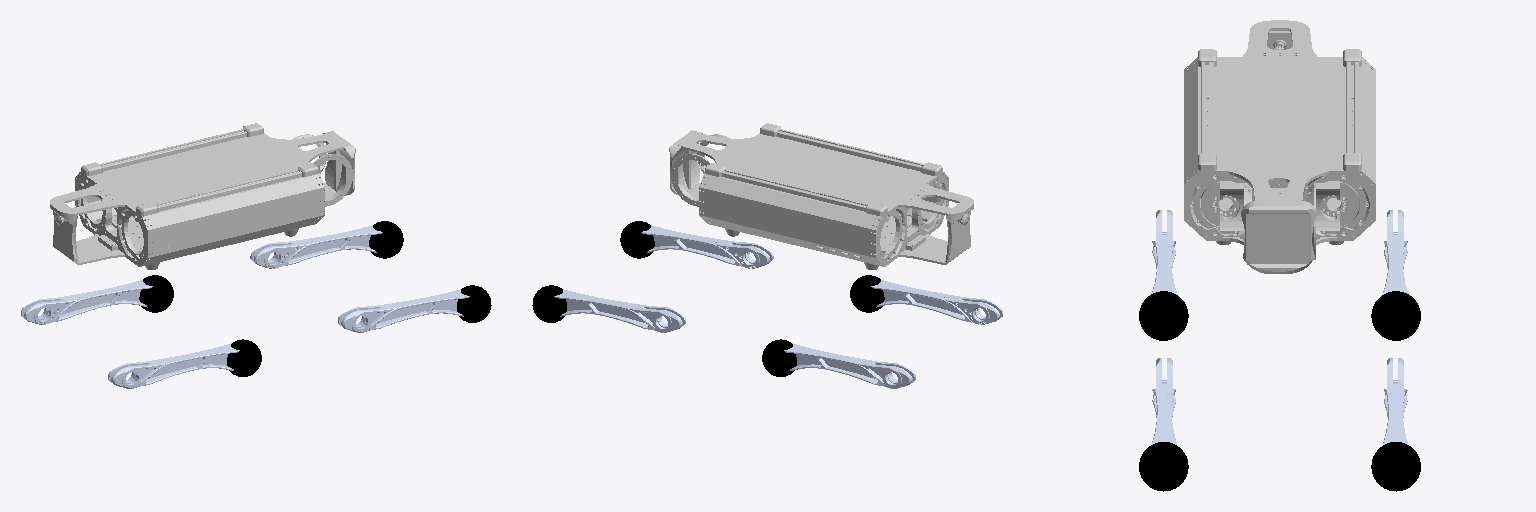
URDF robot description (sizu):
<?xml version="1.0" encoding="utf-8"?>
<!-- This URDF was automatically created by SolidWorks to URDF Exporter! Originally created by Stephen Brawner (brawner@gmail.com) 
     Commit Version: 1.6.0-4-g7f85cfe  Build Version: 1.6.7995.38578
     For more information, please see http://wiki.ros.org/sw_urdf_exporter -->
<robot
  name="sizu">
  <material name="black">
    <color rgba="0.0 0.0 0.0 1.0"/>
  </material>
  
  <link
    name="base_link">
    <inertial>
      <origin
        xyz="-0.0012497 -0.00025077 0.063201"
        rpy="0 0 0" />
      <mass
        value="8.4217" />
      <inertia
        ixx="0.09190"
        ixy="0.00015"
        ixz="0.00129"
        iyy="0.31958"
        iyz="-0.00004"
        izz="0.37063" />
    </inertial>
    <visual>
      <origin
        xyz="0 0 0"
        rpy="0 0 0" />
      <geometry>
        <mesh
          filename="../meshes/base_link.STL" />
      </geometry>
      <material
        name="">
        <color
          rgba="0.84706 0.84706 0.84706 1" />
      </material>
    </visual>
    <collision>
      <origin
        xyz="0 0 0"
        rpy="0 0 0" />
      <geometry>
        <mesh
          filename="../meshes/base_link.STL" />
      </geometry>
    </collision>
  </link>
  <link
    name="left1_1_link">
    <inertial>
      <origin
        xyz="0.050832 -0.011343 -0.0001722"
        rpy="0 0 0" />
      <mass
        value="1.83277" />
      <inertia
        ixx="0.00247"
        ixy="0.00005"
        ixz="0.00000"
        iyy="0.00456"
        iyz="0.00000"
        izz="0.00331" />
    </inertial>
    <visual>
      <origin
        xyz="0 0 0"
        rpy="0 0 0" />
      <geometry>
        <mesh
          filename="../meshes/left1_1_link.STL" />
      </geometry>
      <material
        name="">
        <color
          rgba="0.86667 0.9098 1 1" />
      </material>
    </visual>
    <collision>
      <origin
        xyz="0 0 0"
        rpy="0 0 0" />
      <geometry>
        <mesh
          filename="../meshes/left1_1_link.STL" />
      </geometry>
    </collision>
  </link>
  <joint
    name="left1_1_joint"
    type="revolute">
    <origin
      xyz="0.18256 0.087 0.062"
      rpy="0 0 0" />
    <parent
      link="base_link" />
    <child
      link="left1_1_link" />
    <axis
      xyz="1 0 0" />
    <limit
      lower="-0.873"
      upper="0.873"
      effort="40"
      velocity="25" />
  </joint>
  <link
    name="left1_2_link">
    <inertial>
      <origin
        xyz="-0.011397 0.071514 -0.085657"
        rpy="0 0 0" />
      <mass
        value="2.57652" />
      <inertia
        ixx="0.02289"
        ixy="0.00043"
        ixz="-0.00182"
        iyy="0.02373"
        iyz="0.00306"
        izz="0.00451" />
    </inertial>
    <visual>
      <origin
        xyz="0 0 0"
        rpy="0 0 0" />
      <geometry>
        <mesh
          filename="../meshes/left1_2_link.STL" />
      </geometry>
      <material
        name="">
        <color
          rgba="0.7451 0.73725 0.72941 1" />
      </material>
    </visual>
    <collision>
      <origin
        xyz="0 0 0"
        rpy="0 0 0" />
      <geometry>
        <mesh
          filename="../meshes/left1_2_link.STL" />
      </geometry>
    </collision>
  </link>
  <joint
    name="left1_2_joint"
    type="revolute">
    <origin
      xyz="0.0785000000000005 0.0105000000000026 0"
      rpy="0 0 0" />
    <parent
      link="left1_1_link" />
    <child
      link="left1_2_link" />
    <axis
      xyz="0 1 0" />
    <limit
      lower="-0.516"
      upper="2.478"
      effort="40"
      velocity="25" />
  </joint>
  <link
    name="left1_3_link">
    <inertial>
      <origin
        xyz="0.13302 -0.021113 0.0026327"
        rpy="0 0 0" />
      <mass
        value="0.45786" />
      <inertia
        ixx="0.00021"
        ixy="0.0"
        ixz="0.00056"
        iyy="0.00629"
        iyz="0.00000"
        izz="0.00615" />
    </inertial>
    <visual>
      <origin
        xyz="0 0 0"
        rpy="0 0 0" />
      <geometry>
        <mesh
          filename="../meshes/left1_3_link.STL" />
      </geometry>
      <material
        name="">
        <color
          rgba="0.86667 0.9098 1 1" />
      </material>
    </visual>
    <collision>
      <origin
        xyz="0 0 0"
        rpy="0 0 0" />
      <geometry>
        <mesh
          filename="../meshes/left1_3_link.STL" />
      </geometry>
    </collision>
  </link>
  <joint
    name="left1_3_joint"
    type="revolute">
    <origin
      xyz="0 0.109 -0.275"
      rpy="0 0.097237 0" />
    <parent
      link="left1_2_link" />
    <child
      link="left1_3_link" />
    <axis
      xyz="0 1 0" />
    <limit
      lower="-1.373"
      upper="1.046"
      effort="40"
      velocity="25" />
  </joint>
  <link
    name="right1_1_link">
    <inertial>
      <origin
        xyz="0.050823 0.011343 -0.00016782"
        rpy="0 0 0" />
      <mass
        value="1.83278" />
      <inertia
        ixx="0.00247"
        ixy="-0.00005"
        ixz="0.00000"
        iyy="0.00456"
        iyz="0.00000"
        izz="0.00331" />
    </inertial>
    <visual>
      <origin
        xyz="0 0 0"
        rpy="0 0 0" />
      <geometry>
        <mesh
          filename="../meshes/right1_1_link.STL" />
      </geometry>
      <material
        name="">
        <color
          rgba="0.86667 0.9098 1 1" />
      </material>
    </visual>
    <collision>
      <origin
        xyz="0 0 0"
        rpy="0 0 0" />
      <geometry>
        <mesh
          filename="../meshes/right1_1_link.STL" />
      </geometry>
    </collision>
  </link>
  <joint
    name="right1_1_joint"
    type="revolute">
    <origin
      xyz="0.18256 -0.087 0.062"
      rpy="0 0 0" />
    <parent
      link="base_link" />
    <child
      link="right1_1_link" />
    <axis
      xyz="1 0 0" />
    <limit
      lower="-0.873"
      upper="0.873"
      effort="40"
      velocity="25" />
  </joint>
  <link
    name="right1_2_link">
    <inertial>
      <origin
        xyz="-0.011208 -0.071586 -0.085463"
        rpy="0 0 0" />
      <mass
        value="2.57648" />
      <inertia
        ixx="0.02289"
        ixy="-0.00043"
        ixz="-0.00181"
        iyy="0.02372"
        iyz="-0.00306"
        izz="0.00450" />
    </inertial>
    <visual>
      <origin
        xyz="0 0 0"
        rpy="0 0 0" />
      <geometry>
        <mesh
          filename="../meshes/right1_2_link.STL" />
      </geometry>
      <material
        name="">
        <color
          rgba="0.7451 0.73725 0.72941 1" />
      </material>
    </visual>
    <collision>
      <origin
        xyz="0 0 0"
        rpy="0 0 0" />
      <geometry>
        <mesh
          filename="../meshes/right1_2_link.STL" />
      </geometry>
    </collision>
  </link>
  <joint
    name="right1_2_joint"
    type="revolute">
    <origin
      xyz="0.0784999999999972 -0.0104999999999987 0"
      rpy="0 0 0" />
    <parent
      link="right1_1_link" />
    <child
      link="right1_2_link" />
    <axis
      xyz="0 1 0" />
    <limit
      lower="-0.516"
      upper="2.478"
      effort="40"
      velocity="25" />
  </joint>
  <link
    name="right1_3_link">
    <inertial>
      <origin
        xyz="0.13302 0.021112 0.0026328"
        rpy="0 0 0" />
      <mass
        value="0.45786" />
      <inertia
        ixx="0.00021"
        ixy="0.00000"
        ixz="0.00056"
        iyy="0.00629"
        iyz="0.00000"
        izz="0.00615" />
    </inertial>
    <visual>
      <origin
        xyz="0 0 0"
        rpy="0 0 0" />
      <geometry>
        <mesh
          filename="../meshes/right1_3_link.STL" />
      </geometry>
      <material
        name="">
        <color
          rgba="0.86667 0.9098 1 1" />
      </material>
    </visual>
    <collision>
      <origin
        xyz="0 0 0"
        rpy="0 0 0" />
      <geometry>
        <mesh
          filename="../meshes/right1_3_link.STL" />
      </geometry>
    </collision>
  </link>
  <joint
    name="right1_3_joint"
    type="revolute">
    <origin
      xyz="0 -0.109 -0.275"
      rpy="0 0.097237 0" />
    <parent
      link="right1_2_link" />
    <child
      link="right1_3_link" />
    <axis
      xyz="0 1 0" />
    <limit
      lower="-1.373"
      upper="1.046"
      effort="40"
      velocity="25" />
  </joint>
  <link
    name="left2_1_link">
    <inertial>
      <origin
        xyz="-0.050908 -0.01109 0.00020244"
        rpy="0 0 0" />
      <mass
        value="1.83916" />
      <inertia
        ixx="0.00248"
        ixy="-0.00005"
        ixz="0.00000"
        iyy="0.00457"
        iyz="0.00000"
        izz="0.00332" />
    </inertial>
    <visual>
      <origin
        xyz="0 0 0"
        rpy="0 0 0" />
      <geometry>
        <mesh
          filename="../meshes/left2_1_link.STL" />
      </geometry>
      <material
        name="">
        <color
          rgba="0.86667 0.9098 1 1" />
      </material>
    </visual>
    <collision>
      <origin
        xyz="0 0 0"
        rpy="0 0 0" />
      <geometry>
        <mesh
          filename="../meshes/left2_1_link.STL" />
      </geometry>
    </collision>
  </link>
  <joint
    name="left2_1_joint"
    type="revolute">
    <origin
      xyz="-0.22344 0.087 0.062"
      rpy="0 0 0" />
    <parent
      link="base_link" />
    <child
      link="left2_1_link" />
    <axis
      xyz="1 0 0" />
    <limit
      lower="-0.873"
      upper="0.873"
      effort="40"
      velocity="25" />
  </joint>
  <link
    name="left2_2_link">
    <inertial>
      <origin
        xyz="-0.01131 0.071514 -0.085934"
        rpy="0 0 0" />
      <mass
        value="2.57652" />
      <inertia
        ixx="0.0226"
        ixy="0.00041"
        ixz="-0.00182"
        iyy="0.02350"
        iyz="0.00301"
        izz="0.00448" />
    </inertial>
    <visual>
      <origin
        xyz="0 0 0"
        rpy="0 0 0" />
      <geometry>
        <mesh
          filename="../meshes/left2_2_link.STL" />
      </geometry>
      <material
        name="">
        <color
          rgba="0.7451 0.73725 0.72941 1" />
      </material>
    </visual>
    <collision>
      <origin
        xyz="0 0 0"
        rpy="0 0 0" />
      <geometry>
        <mesh
          filename="../meshes/left2_2_link.STL" />
      </geometry>
    </collision>
  </link>
  <joint
    name="left2_2_joint"
    type="revolute">
    <origin
      xyz="-0.0784999999999971 0.0105000000000021 0"
      rpy="0 0 0" />
    <parent
      link="left2_1_link" />
    <child
      link="left2_2_link" />
    <axis
      xyz="0 1 0" />
    <limit
      lower="-0.516"
      upper="2.478"
      effort="40"
      velocity="25" />
  </joint>
  <link
    name="left2_3_link">
    <inertial>
      <origin
        xyz="0.13302 -0.021113 0.0026327"
        rpy="0 0 0" />
      <mass
        value="0.45786" />
      <inertia
        ixx="0.00019"
        ixy="0.00000"
        ixz="0.00046"
        iyy="0.00629"
        iyz="0.00000"
        izz="0.00617" />
    </inertial>
    <visual>
      <origin
        xyz="0 0 0"
        rpy="0 0 0" />
      <geometry>
        <mesh
          filename="../meshes/left2_3_link.STL" />
      </geometry>
      <material
        name="">
        <color
          rgba="0.86667 0.9098 1 1" />
      </material>
    </visual>
    <collision>
      <origin
        xyz="0 0 0"
        rpy="0 0 0" />
      <geometry>
        <mesh
          filename="../meshes/left2_3_link.STL" />
      </geometry>
    </collision>
  </link>
  <joint
    name="left2_3_joint"
    type="revolute">
    <origin
      xyz="0 0.109 -0.275"
      rpy="0 0.081436 0" />
    <parent
      link="left2_2_link" />
    <child
      link="left2_3_link" />
    <axis
      xyz="0 1 0" />
    <limit
      lower="-1.373"
      upper="1.046"
      effort="40"
      velocity="25" />
  </joint>
  <link
    name="right2_1_link">
    <inertial>
      <origin
        xyz="0 0 0"
        rpy="0 0 0" />
      <mass
        value="1.83916" />
      <inertia
        ixx="0.00253"
        ixy="0.00007"
        ixz="0.00002"
        iyy="0.00455"
        iyz="0.00002"
        izz="0.00325" />
    </inertial>
    <visual>
      <origin
        xyz="0 0 0"
        rpy="0 0 0" />
      <geometry>
        <mesh
          filename="../meshes/right2_1_link.STL" />
      </geometry>
      <material
        name="">
        <color
          rgba="1 1 1 1" />
      </material>
    </visual>
    <collision>
      <origin
        xyz="0 0 0"
        rpy="0 0 0" />
      <geometry>
        <mesh
          filename="../meshes/right2_1_link.STL" />
      </geometry>
    </collision>
  </link>
  <joint
    name="right2_1_joint"
    type="revolute">
    <origin
      xyz="-0.223442163425559 -0.0869999999999991 0.0620000000000039"
      rpy="0 0 0" />
    <parent
      link="base_link" />
    <child
      link="right2_1_link" />
    <axis
      xyz="1 0 0" />
    <limit
      lower="-0.873"
      upper="0.873"
      effort="40"
      velocity="25" />
  </joint>
  <link
    name="right2_2_link">
    <inertial>
      <origin
        xyz="-0.011122 -0.071594 -0.085739"
        rpy="0 0 0" />
      <mass
        value="2.57648" />
      <inertia
        ixx="0.02269"
        ixy="-0.00040"
        ixz="-0.00181"
        iyy="0.02349"
        iyz="-0.00301"
        izz="0.00447" />
    </inertial>
    <visual>
      <origin
        xyz="0 0 0"
        rpy="0 0 0" />
      <geometry>
        <mesh
          filename="../meshes/right2_2_link.STL" />
      </geometry>
      <material
        name="">
        <color
          rgba="0.7451 0.73725 0.72941 1" />
      </material>
    </visual>
    <collision>
      <origin
        xyz="0 0 0"
        rpy="0 0 0" />
      <geometry>
        <mesh
          filename="../meshes/right2_2_link.STL" />
      </geometry>
    </collision>
  </link>
  <joint
    name="right2_2_joint"
    type="revolute">
    <origin
      xyz="-0.0784999999999965 -0.0104999999999997 0"
      rpy="0 0 0" />
    <parent
      link="right2_1_link" />
    <child
      link="right2_2_link" />
    <axis
      xyz="0 1 0" />
    <limit
      lower="-0.516"
      upper="2.478"
      effort="40"
      velocity="25" />
  </joint>
  <link
    name="right2_3_link">
    <inertial>
      <origin
        xyz="0.13302 0.021112 0.0026328"
        rpy="0 0 0" />
      <mass
        value="0.45786" />
      <inertia
        ixx="0.00019"
        ixy="0.00000"
        ixz="0.00046"
        iyy="0.00629"
        iyz="0.00000"
        izz="0.00617" />
    </inertial>
    <visual>
      <origin
        xyz="0 0 0"
        rpy="0 0 0" />
      <geometry>
        <mesh
          filename="../meshes/right2_3_link.STL" />
      </geometry>
      <material
        name="">
        <color
          rgba="0.86667 0.9098 1 1" />
      </material>
    </visual>
    <collision>
      <origin
        xyz="0 0 0"
        rpy="0 0 0" />
      <geometry>
        <mesh
          filename="../meshes/right2_3_link.STL" />
      </geometry>
    </collision>
  </link>
  <joint
    name="right2_3_joint"
    type="revolute">
    <origin
      xyz="0 -0.109 -0.275"
      rpy="0 0.081436 0" />
    <parent
      link="right2_2_link" />
    <child
      link="right2_3_link" />
    <axis
      xyz="0 1 0" />
    <limit
      lower="-1.373"
      upper="1.046"
      effort="40"
      velocity="25" />
  </joint>
  <!-- Left Front Foot -->
  <joint name="left1_foot_fixed" type="fixed" dont_collapse="true">
    <origin rpy="0 0 0" xyz="0.28 -0.02 0.0"/>
    <parent link="left1_3_link"/>
    <child link="left1_foot"/>
  </joint>
  <link name="left1_foot">
    <visual>
      <origin rpy="0 0 0" xyz="0 0 0"/>
      <geometry>
        <sphere radius="0.04"/>
      </geometry>
      <material name="black"/>
    </visual>
    <collision>
      <origin rpy="0 0 0" xyz="0 0 0"/>
      <geometry>
        <sphere radius="0.04"/>
      </geometry>
    </collision>
    <inertial>
      <mass value="0.06"/>
      <inertia ixx="9.6e-06" ixy="0.0" ixz="0.0" iyy="9.6e-06" iyz="0.0" izz="9.6e-06"/>
    </inertial>
  </link>


  <!-- Left Rear Foot -->
  <joint name="left2_foot_fixed" type="fixed" dont_collapse="true">
    <origin rpy="0 0 0" xyz="0.28 -0.02 0.0"/>
    <parent link="left2_3_link"/>
    <child link="left2_foot"/>
  </joint>
  <link name="left2_foot">
    <visual>
      <origin rpy="0 0 0" xyz="0 0 0"/>
      <geometry>
        <sphere radius="0.04"/>
      </geometry>
      <material name="black"/>
    </visual>
    <collision>
      <origin rpy="0 0 0" xyz="0 0 0"/>
      <geometry>
        <sphere radius="0.04"/>
      </geometry>
    </collision>
    <inertial>
      <mass value="0.06"/>
      <inertia ixx="9.6e-06" ixy="0.0" ixz="0.0" iyy="9.6e-06" iyz="0.0" izz="9.6e-06"/>
    </inertial>
  </link>

    <!-- Right Front Foot -->
  <joint name="right1_foot_fixed" type="fixed" dont_collapse="true">
    <origin rpy="0 0 0" xyz="0.28 0.02 0.0"/>
    <parent link="right1_3_link"/>
    <child link="right1_foot"/>
  </joint>
  <link name="right1_foot">
    <visual>
      <origin rpy="0 0 0" xyz="0 0 0"/>
      <geometry>
        <sphere radius="0.04"/>
      </geometry>
      <material name="black"/>
    </visual>
    <collision>
      <origin rpy="0 0 0" xyz="0 0 0"/>
      <geometry>
        <sphere radius="0.04"/>
      </geometry>
    </collision>
    <inertial>
      <mass value="0.06"/>
      <inertia ixx="9.6e-06" ixy="0.0" ixz="0.0" iyy="9.6e-06" iyz="0.0" izz="9.6e-06"/>
    </inertial>
  </link>

  <!-- Right Rear Foot -->
  <joint name="right2_foot_fixed" type="fixed" dont_collapse="true">
    <origin rpy="0 0 0" xyz="0.28 0.02 0.0"/>
    <parent link="right2_3_link"/>
    <child link="right2_foot"/>
  </joint>
  <link name="right2_foot">
    <visual>
      <origin rpy="0 0 0" xyz="0 0 0"/>
      <geometry>
        <sphere radius="0.04"/>
      </geometry>
      <material name="black"/>
    </visual>
    <collision>
      <origin rpy="0 0 0" xyz="0 0 0"/>
      <geometry>
        <sphere radius="0.04"/>
      </geometry>
    </collision>
    <inertial>
      <mass value="0.06"/>
      <inertia ixx="9.6e-06" ixy="0.0" ixz="0.0" iyy="9.6e-06" iyz="0.0" izz="9.6e-06"/>
    </inertial>
  </link>
</robot>

--- What the picture shows (computed from the rendered views, not written in the file) ---
3 views of the same robot in one strip: view 1: azimuth 30°, elevation 25°; view 2: azimuth 150°, elevation 25°; view 3: azimuth 270°, elevation 25° (orthographic).
Robot: sizu — 17 links, 16 joints (12 revolute, 4 fixed); root link base_link; default pose: every joint at zero.
Links seen in each view (by area): view 1: base_link, right2_3_link, left2_3_link, left1_3_link, right1_3_link, right1_foot, right2_foot, left1_foot, left2_foot; view 2: base_link, left2_3_link, right2_3_link, right1_3_link, left1_3_link, left1_foot, left2_foot, right2_foot, right1_foot; view 3: base_link, left2_foot, right2_foot, left1_foot, right1_foot, left1_3_link, right1_3_link, left2_3_link, right2_3_link.
Boxes of the visible links, left/top/right/bottom form: base_link: left=50, top=123, right=355, bottom=269; right2_3_link: left=108, top=343, right=239, bottom=388; left2_3_link: left=21, top=280, right=152, bottom=324; left1_3_link: left=250, top=225, right=382, bottom=268; right1_3_link: left=338, top=289, right=469, bottom=332; right1_foot: left=457, top=285, right=491, bottom=322; right2_foot: left=227, top=339, right=261, bottom=376; left1_foot: left=369, top=221, right=403, bottom=258; left2_foot: left=139, top=275, right=173, bottom=312; base_link: left=669, top=123, right=973, bottom=269; left2_3_link: left=784, top=343, right=915, bottom=388; right2_3_link: left=871, top=280, right=1002, bottom=324; right1_3_link: left=641, top=225, right=773, bottom=268; left1_3_link: left=554, top=289, right=685, bottom=332; left1_foot: left=532, top=285, right=566, bottom=322; left2_foot: left=762, top=339, right=796, bottom=376; right2_foot: left=850, top=275, right=884, bottom=312; right1_foot: left=620, top=221, right=654, bottom=258; base_link: left=1184, top=20, right=1375, bottom=273; left2_foot: left=1371, top=291, right=1420, bottom=340; right2_foot: left=1139, top=291, right=1188, bottom=340; left1_foot: left=1371, top=442, right=1420, bottom=491; right1_foot: left=1139, top=442, right=1188, bottom=491; left1_3_link: left=1383, top=358, right=1407, bottom=444; right1_3_link: left=1152, top=358, right=1176, bottom=444; left2_3_link: left=1383, top=210, right=1407, bottom=294; right2_3_link: left=1152, top=210, right=1176, bottom=294.
Size in the robot's own frame: 0.9555 by 0.453 by 0.418 metres.
5 mesh visuals loaded from 13 distinct referenced files (5 binary STL); not drawn: 8 (reference not matched to a file when rendering).
